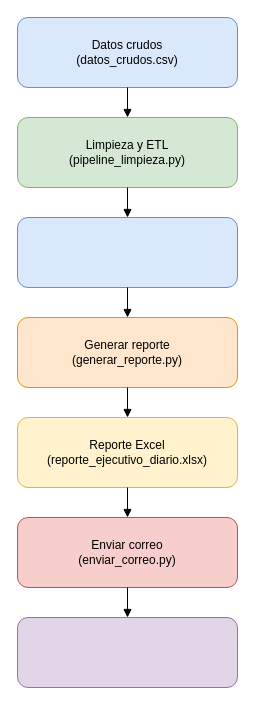
Some shapes in this 255 by 705 pixel diagram are drawn without their labels. Each missing label, with the centre of its shape:
"Datos limpios (datos_consolidados_limpios.csv)" belongs at point (127, 252).
"Destinatarios (Email)" belongs at point (127, 652).
